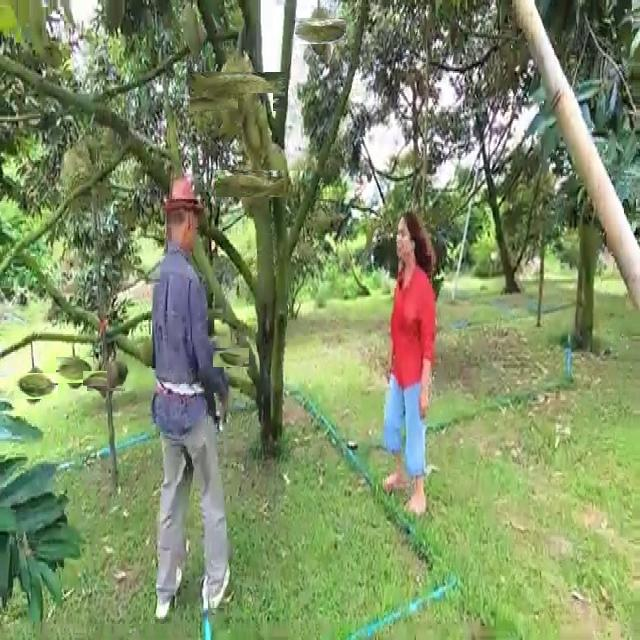durian: (59, 137, 118, 220), (203, 58, 271, 125), (238, 93, 273, 166), (226, 159, 274, 207), (256, 134, 290, 199), (301, 11, 341, 51), (18, 368, 53, 404), (59, 354, 91, 386), (91, 367, 121, 396), (217, 343, 245, 371), (107, 358, 128, 388), (87, 366, 112, 391)
